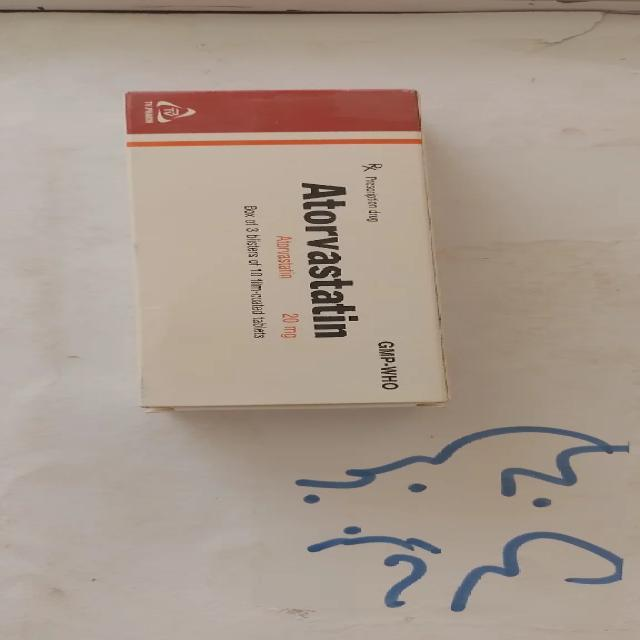drug-name: (298, 178, 364, 342)
